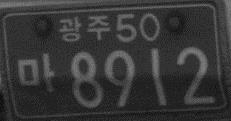0: (139, 12, 160, 41)
1: (149, 46, 168, 108)
2: (176, 45, 217, 105)
5: (114, 13, 138, 42)
8: (69, 49, 103, 108)
9: (104, 49, 136, 108)
광주_O: (58, 14, 112, 43)
마: (16, 52, 56, 95)
